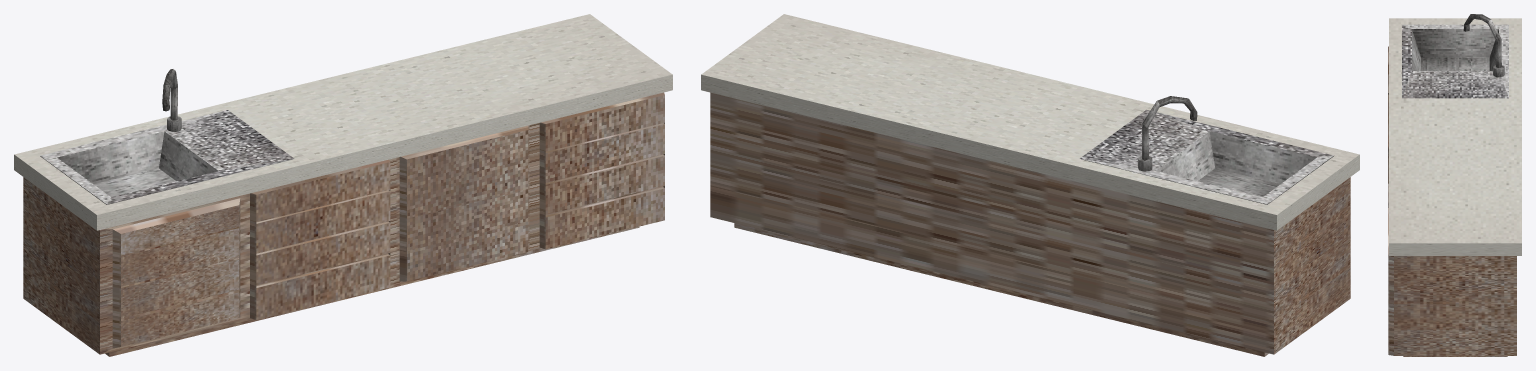
File: commode.fbx
3 views of the same model, side by side, from view 1: azimuth 30°, elevation 25°; view 2: azimuth 150°, elevation 25°; view 3: azimuth 270°, elevation 25° (orthographic). The views are drawn at different scales.
Parts seen in each view (by area): view 1: Cube_001, Cube, Cube_002; view 2: Cube_001, Cube, Cube_002; view 3: Cube, Cube_001, Cube_002.
Part boxes in pixels (box(x1,y1,x2,y2)): Cube_001: box(23, 92, 664, 356); Cube: box(14, 14, 672, 230); Cube_002: box(40, 69, 294, 204); Cube_001: box(710, 92, 1350, 356); Cube: box(701, 14, 1359, 230); Cube_002: box(1080, 96, 1333, 204); Cube: box(1389, 18, 1521, 255); Cube_001: box(1388, 46, 1516, 356); Cube_002: box(1402, 14, 1508, 98).
Bounding box in the file's own units: 8.03 × 2.96 × 2.01.
